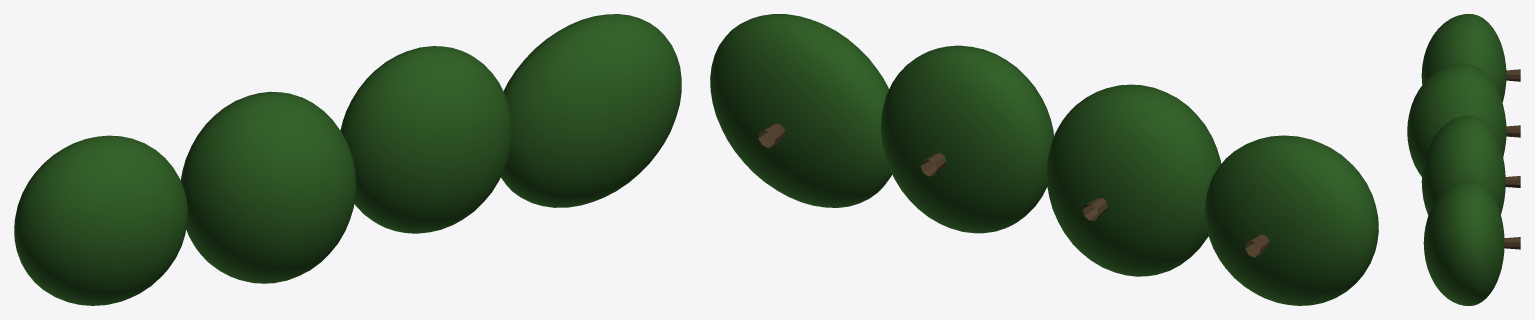
File: citrus_plain4_c.obj
3 renders of one model, left to right at view 1: azimuth 30°, elevation 25°; view 2: azimuth 150°, elevation 25°; view 3: azimuth 270°, elevation 25°, orthographic. The views are drawn at different scales.
Parts seen in each view (by area): view 1: canopy; view 2: canopy, trunk; view 3: canopy, trunk.
Boxes of the visible parts, x1,y1,x2,y2 form: canopy: (14,14,681,305); canopy: (710,14,1378,305); trunk: (758,123,1269,257); canopy: (1407,14,1506,305); trunk: (1504,69,1520,249).
Size of the model in its own units: 12.18 by 3.32 by 2.67.
